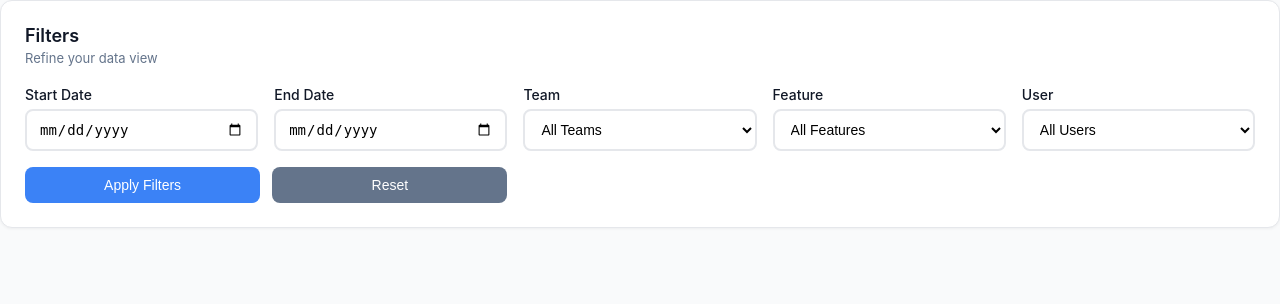
Test: Filters Component › displays validation error for invalid date range
The width and height of the screenshot is (1280, 304).
Type "2024-01-31" into the date field labelled "Start Date". click: {"x": 142, "y": 130}
box: [25,109,258,151]
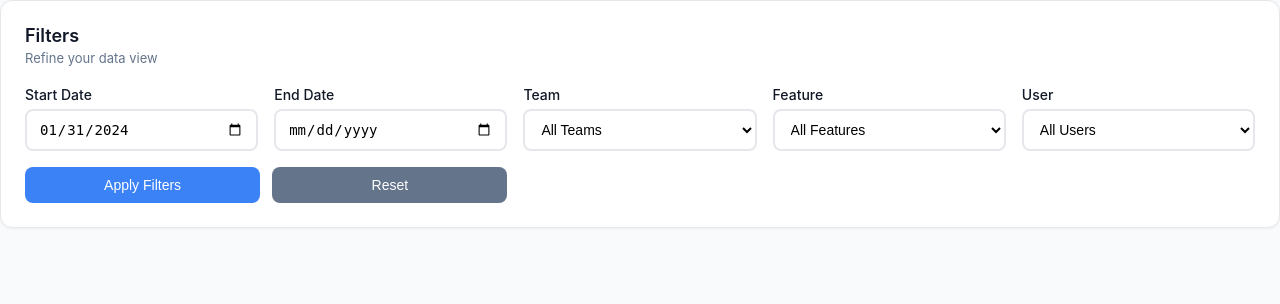
Type "2024-01-01" into the date field labelled "End Date". click: {"x": 391, "y": 130}
box: [274,109,507,151]
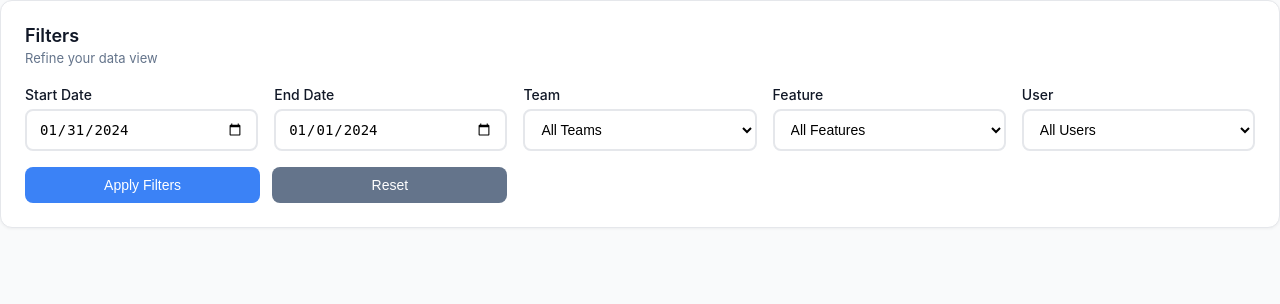
Click the button "Apply Filters". click: {"x": 143, "y": 185}
box: [25,167,260,203]
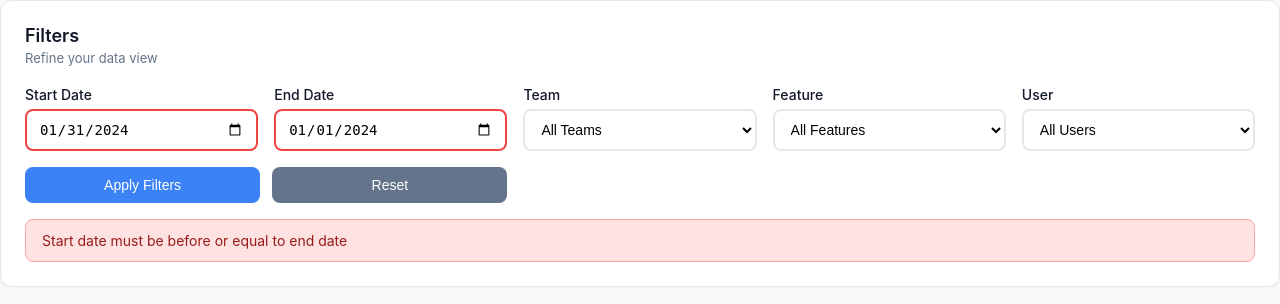
Check: the text "Start date must be before or equal to end date" is shown, box [25,219,1255,262]
